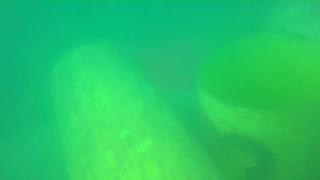3: (216, 132, 276, 180)
pipe: (49, 42, 226, 180), (192, 30, 320, 180), (270, 1, 320, 49)
